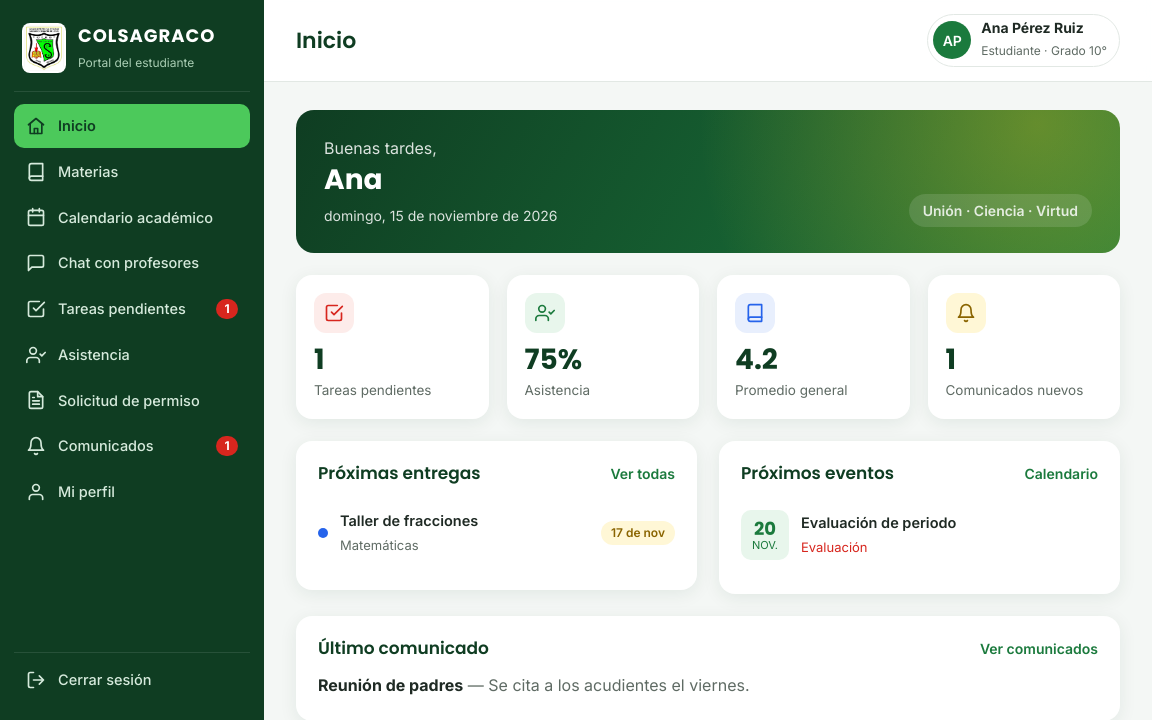
Test: Plataforma del estudiante › Tareas: marcar como entregada la guarda en el servidor y la mueve de pestaña
Check: the heading "Ana" is shown, box [324, 160, 382, 199]
Click the button "Tareas pendientes 1": (132, 309) [14, 287, 250, 331]
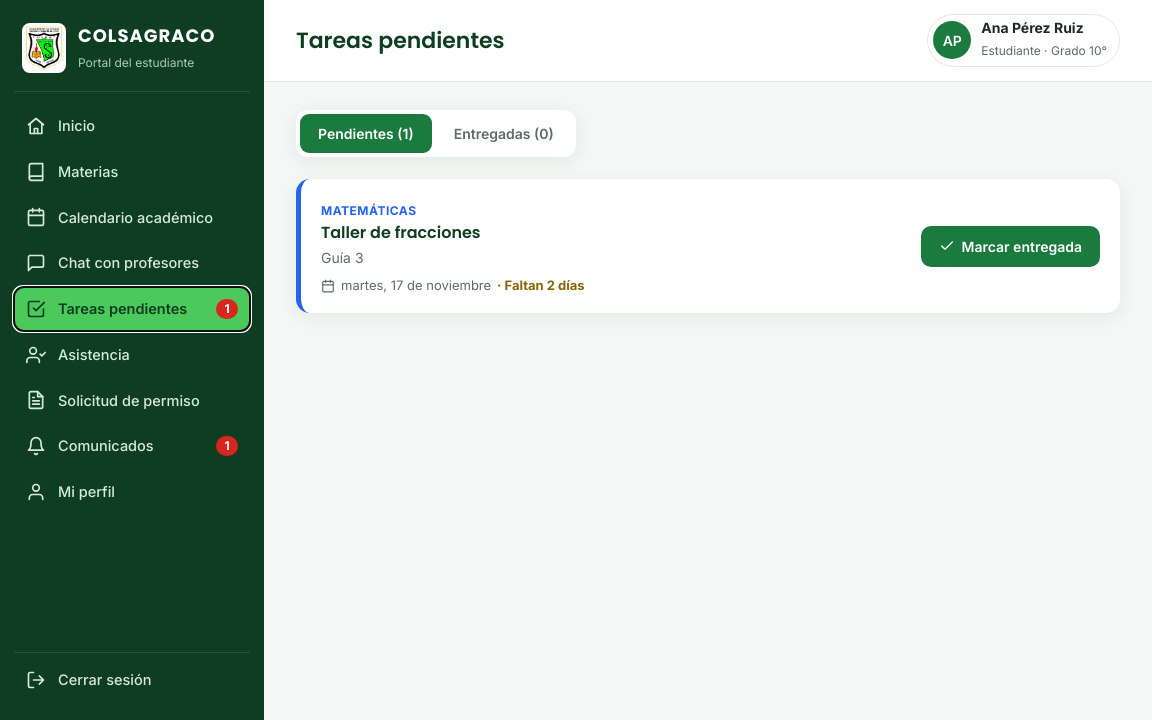
Click the button "Marcar entregada": (1011, 246) [922, 226, 1100, 266]
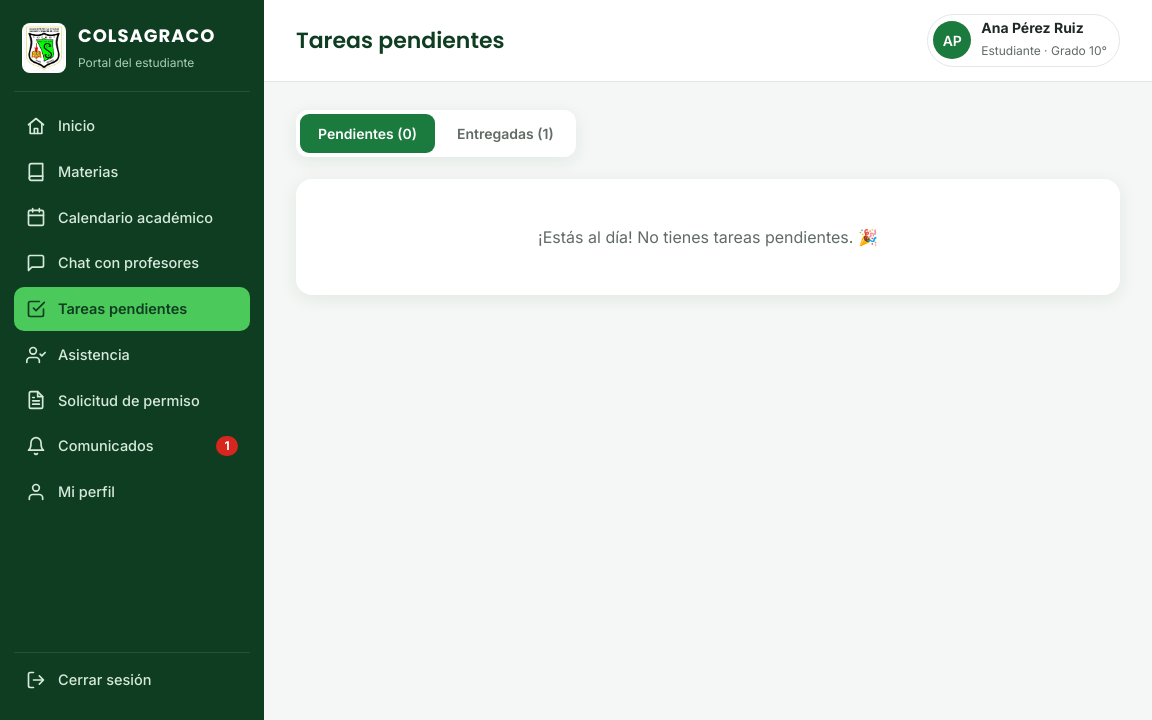
Check: the text "¡Estás al día! No tienes tareas pendientes. 🎉" is shown, box [538, 227, 878, 247]
Check: the button "Entregadas (1)" is shown, box [439, 114, 572, 153]
